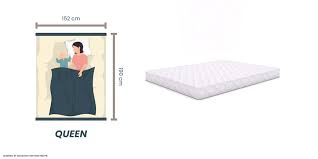bed-matress: (145, 58, 281, 100)
